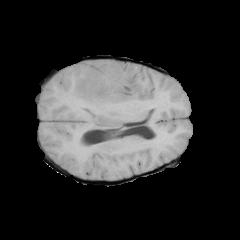glioma: (72, 71, 137, 110)
